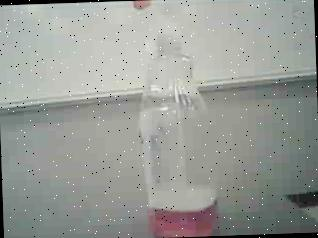hazard: (128, 0, 224, 238)
